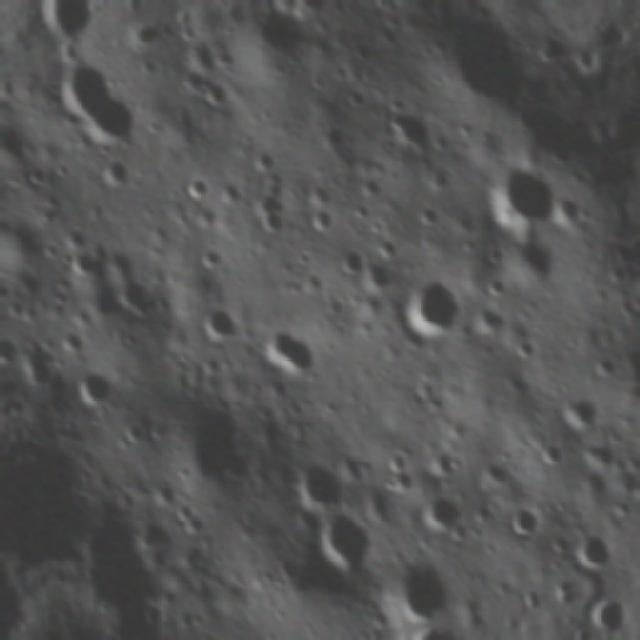crater: (44, 65, 144, 152), (490, 160, 564, 231), (309, 510, 383, 578), (394, 276, 458, 350), (69, 364, 131, 421), (388, 558, 450, 611), (262, 328, 310, 386), (293, 462, 352, 509), (410, 487, 465, 530), (570, 522, 619, 570), (561, 390, 601, 432), (500, 502, 542, 541), (198, 306, 232, 342), (540, 439, 566, 470)
